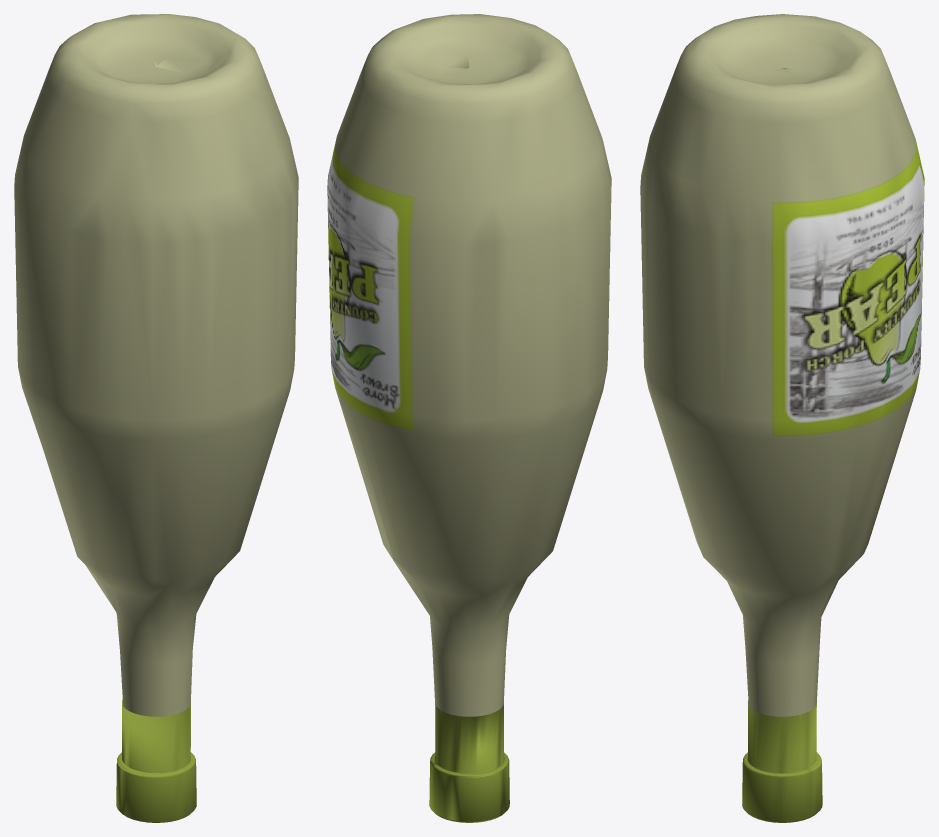
File: WineBottleFruit_Static.fbx
The picture shows the model from 3 angles, left to right: view 1: azimuth 30°, elevation 25°; view 2: azimuth 150°, elevation 25°; view 3: azimuth 270°, elevation 25°; orthographic projection.
Visible parts, largest first — view 1: Wine2; view 2: Wine2; view 3: Wine2.
Part boxes in pixels (x1,y1,x2,y2): Wine2: [14, 14, 298, 822]; Wine2: [327, 14, 611, 822]; Wine2: [640, 14, 924, 822].
Size of the model in its own units: 0.2208 by 0.6463 by 0.2201.
